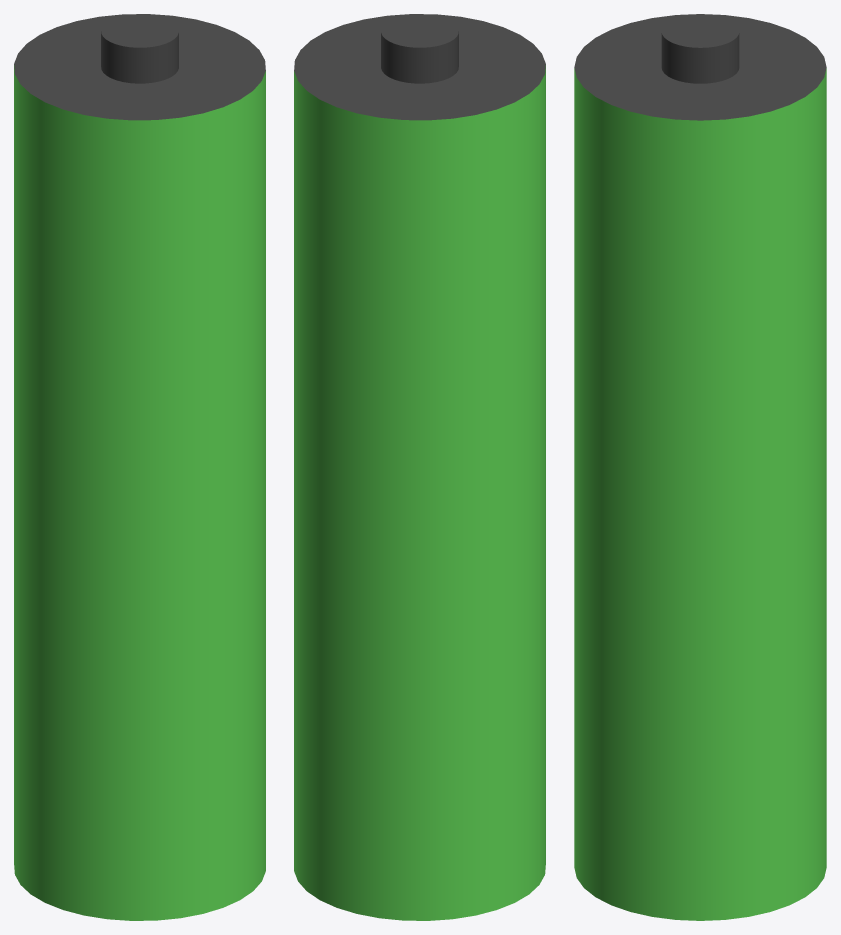
The model's file is Battery.fbx.
3 renders of one model, left to right at view 1: azimuth 30°, elevation 25°; view 2: azimuth 150°, elevation 25°; view 3: azimuth 270°, elevation 25°, orthographic.
Visible parts, largest first — view 1: Battery; view 2: Battery; view 3: Battery.
Boxes of the visible parts, bbox=[...] form: Battery: bbox=[14, 14, 265, 920]; Battery: bbox=[294, 14, 545, 920]; Battery: bbox=[574, 14, 826, 920].
Bounding box in the file's own units: 4 × 15.06 × 4.
